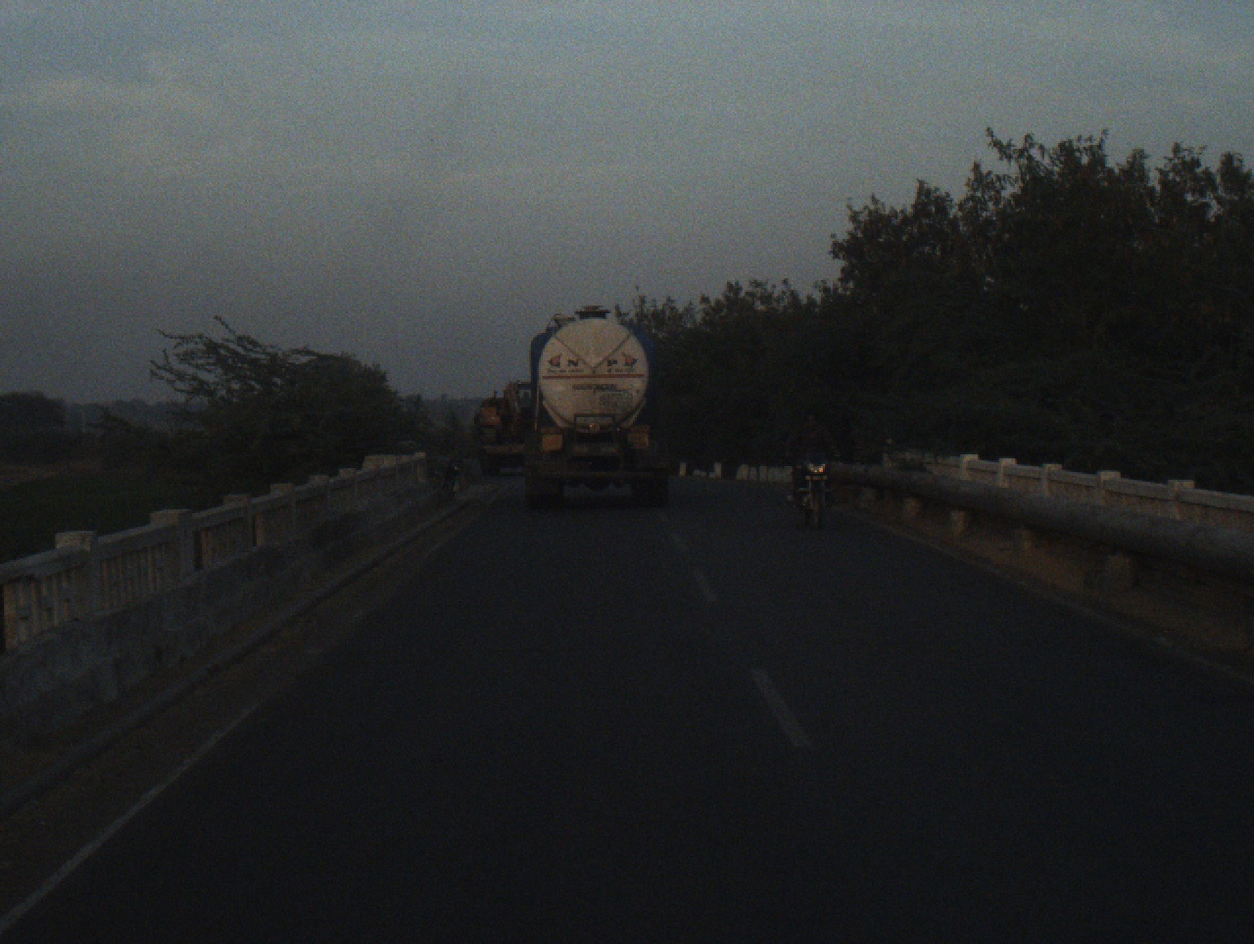motorcycle: (789, 446, 846, 529)
rider: (782, 404, 839, 502)
truck: (518, 301, 678, 508)
vehicle fallback: (467, 379, 542, 474)
